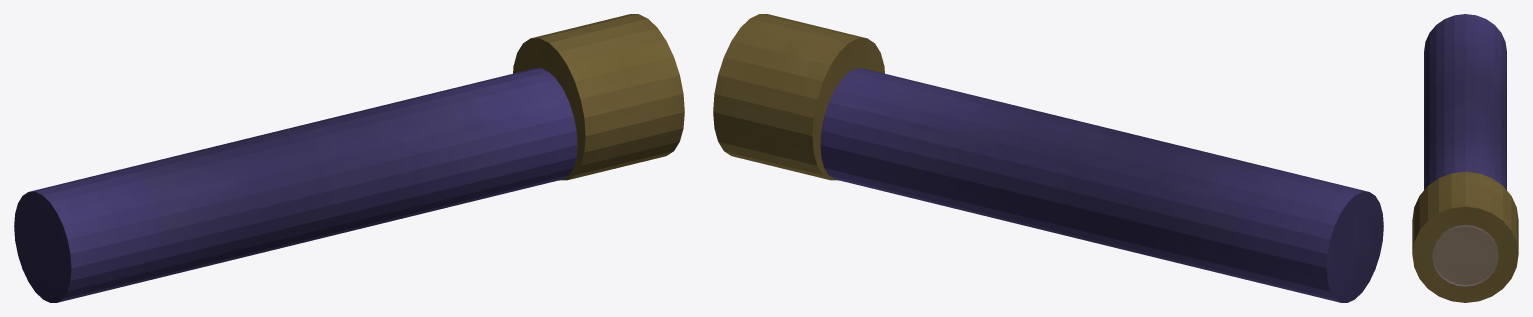
File: TY33_Kaleidoscope.glb
3 renders of one model, left to right at view 1: azimuth 30°, elevation 25°; view 2: azimuth 150°, elevation 25°; view 3: azimuth 270°, elevation 25°, orthographic. The views are drawn at different scales.
Visible parts, largest first — view 1: TY33_Kaleidoscope; view 2: TY33_Kaleidoscope; view 3: TY33_Kaleidoscope.
Boxes of the visible parts, bbox=[...] form: TY33_Kaleidoscope: bbox=[14, 14, 684, 302]; TY33_Kaleidoscope: bbox=[713, 14, 1383, 302]; TY33_Kaleidoscope: bbox=[1412, 14, 1518, 302].
Size of the model in its own units: 0.3 by 0.0624 by 0.0624.
Materials: 3 (3 with a texture image).
